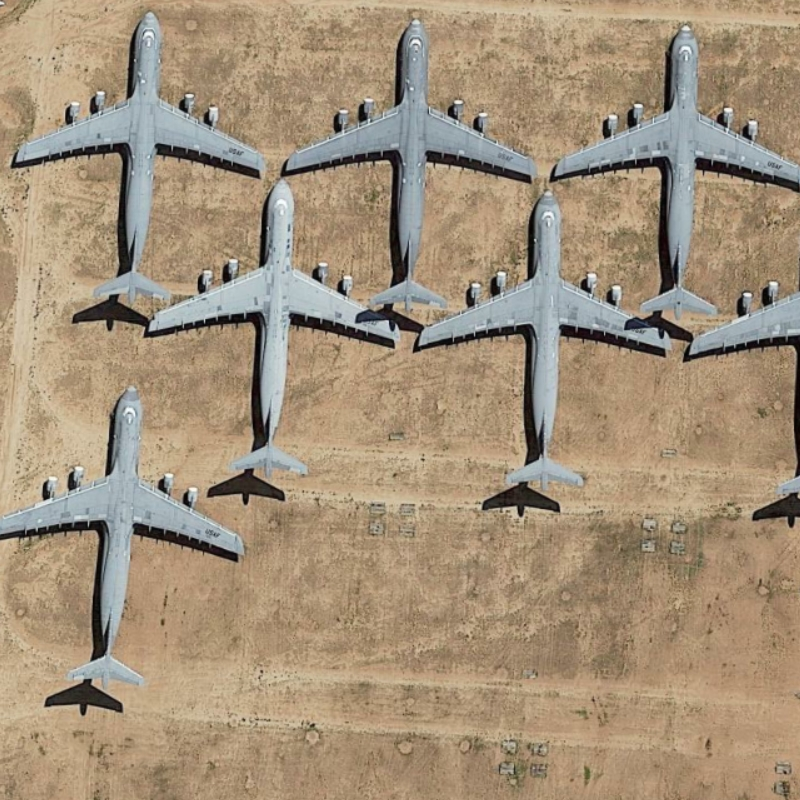A4: (143, 170, 408, 484), (417, 185, 674, 496), (10, 5, 267, 310), (1, 379, 244, 700), (282, 16, 541, 314), (550, 12, 800, 317)
